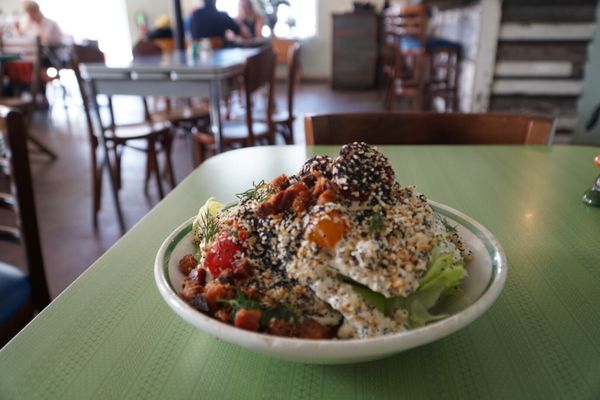sushi: (153, 142, 508, 367)
